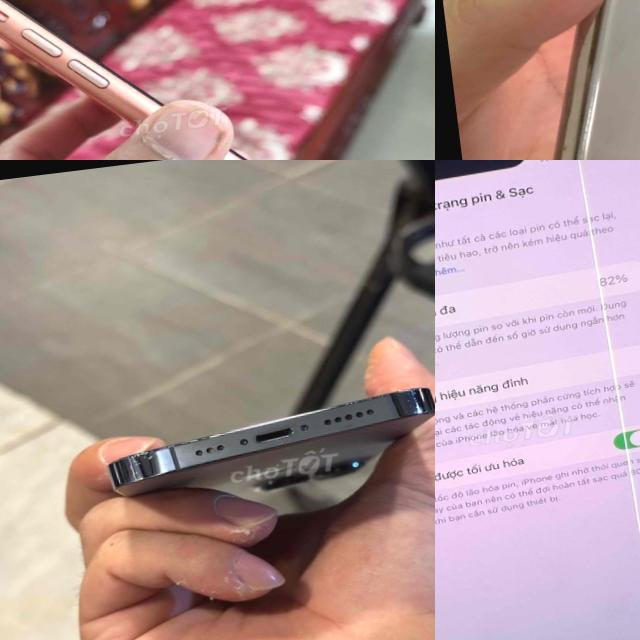gen_12_13: (435, 160, 640, 640), (95, 373, 435, 531)
gen_x_xs: (0, 0, 185, 137), (551, 0, 640, 160)
